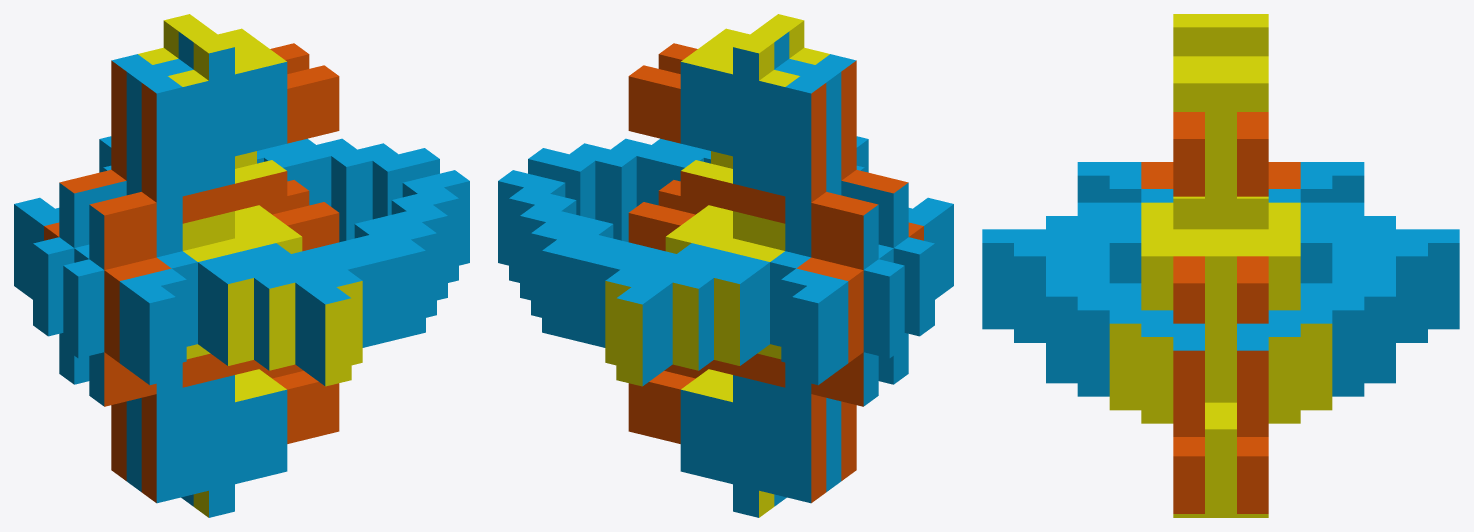
Rendered from Grabber.glb.
3 renders of one model, left to right at view 1: azimuth 30°, elevation 25°; view 2: azimuth 150°, elevation 25°; view 3: azimuth 270°, elevation 25°, orthographic. The views are drawn at different scales.
Visible parts, largest first — view 1: Cube; view 2: Cube; view 3: Cube.
Part boxes in pixels (left/top/right/bottom): Cube: left=14, top=14, right=469, bottom=517; Cube: left=498, top=14, right=953, bottom=517; Cube: left=982, top=14, right=1459, bottom=517.
Size of the model in its own units: 30 by 34 by 30.
